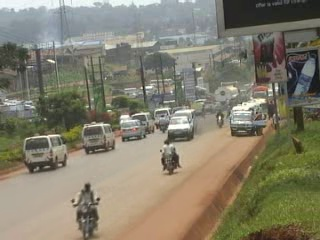Car: (118, 117, 147, 142)
Motorcycle: (70, 179, 102, 240), (158, 138, 183, 176), (214, 108, 225, 129), (157, 112, 167, 134)
